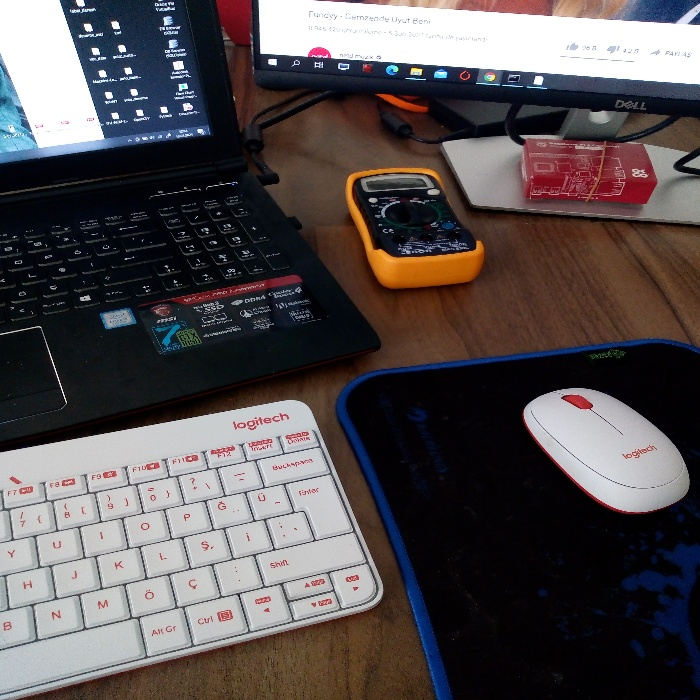multimetre: (349, 155, 495, 286)
